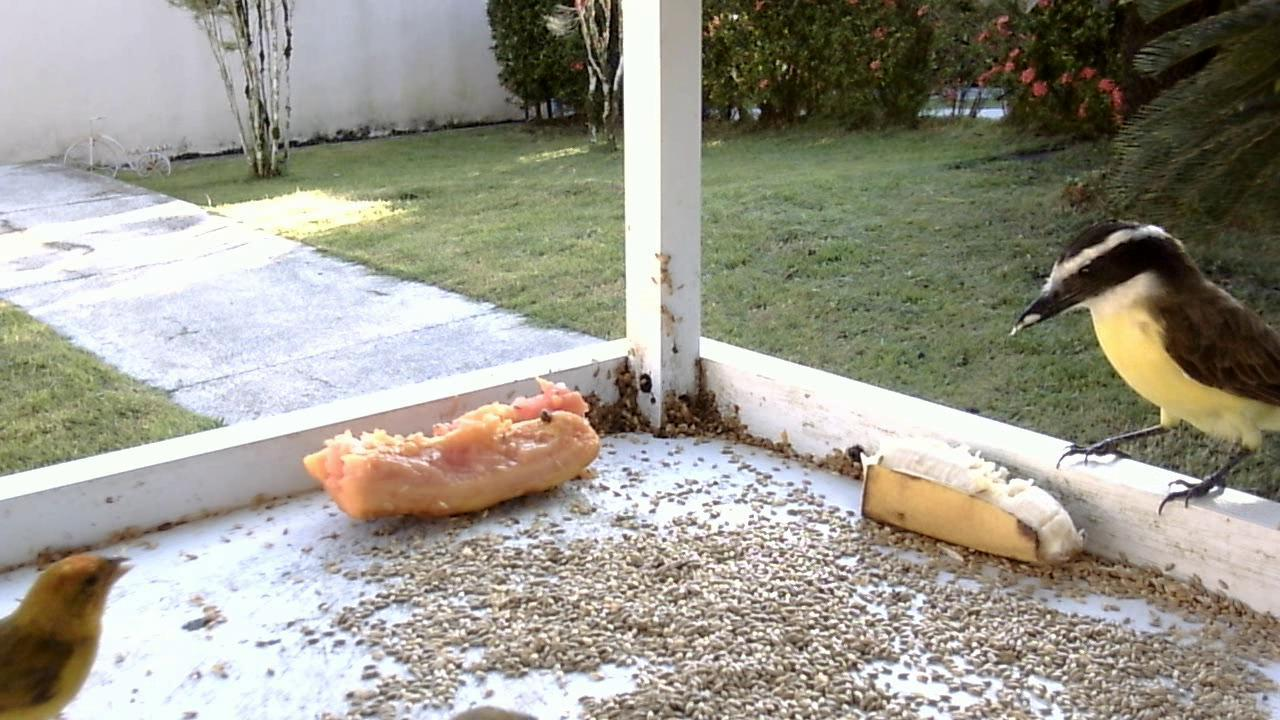bem_te_vi: (997, 209, 1278, 541)
canario_do_amazonas: (1, 551, 148, 720)
